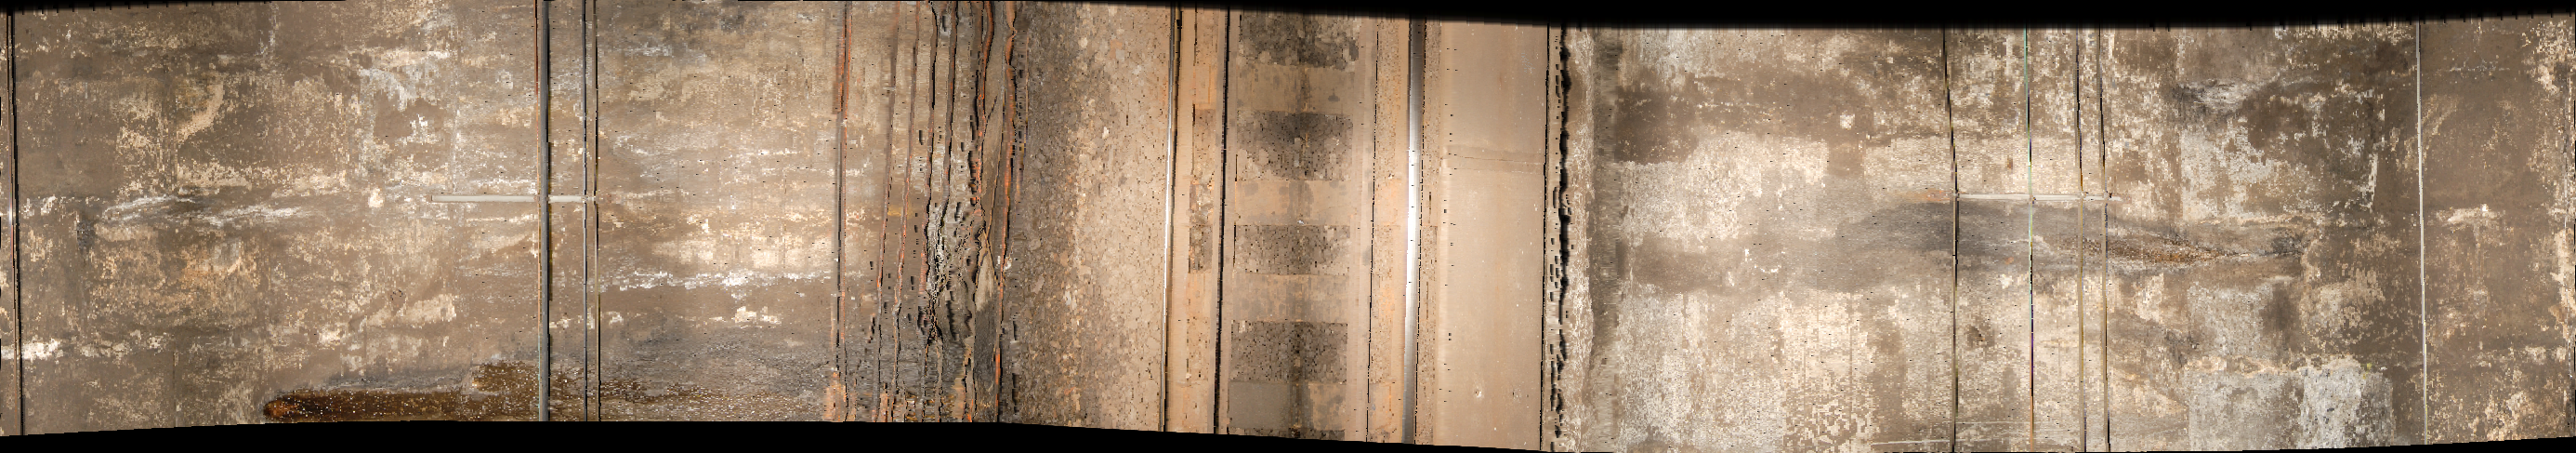pipes: (835, 5, 1035, 453), (2014, 33, 2124, 453), (522, 3, 611, 445), (1932, 28, 1966, 453), (2407, 26, 2436, 451)
tracks: (1157, 2, 1449, 451)
